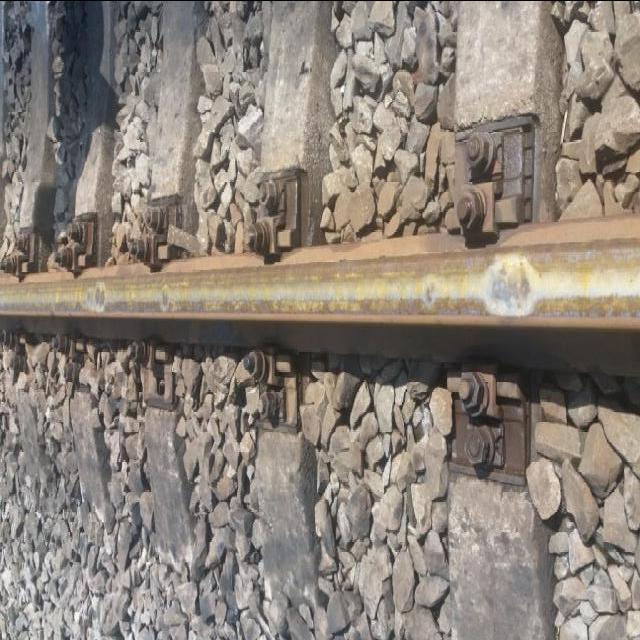broken_rail_medium: (479, 254, 539, 322), (419, 265, 441, 309), (79, 284, 112, 308), (155, 284, 175, 308)
